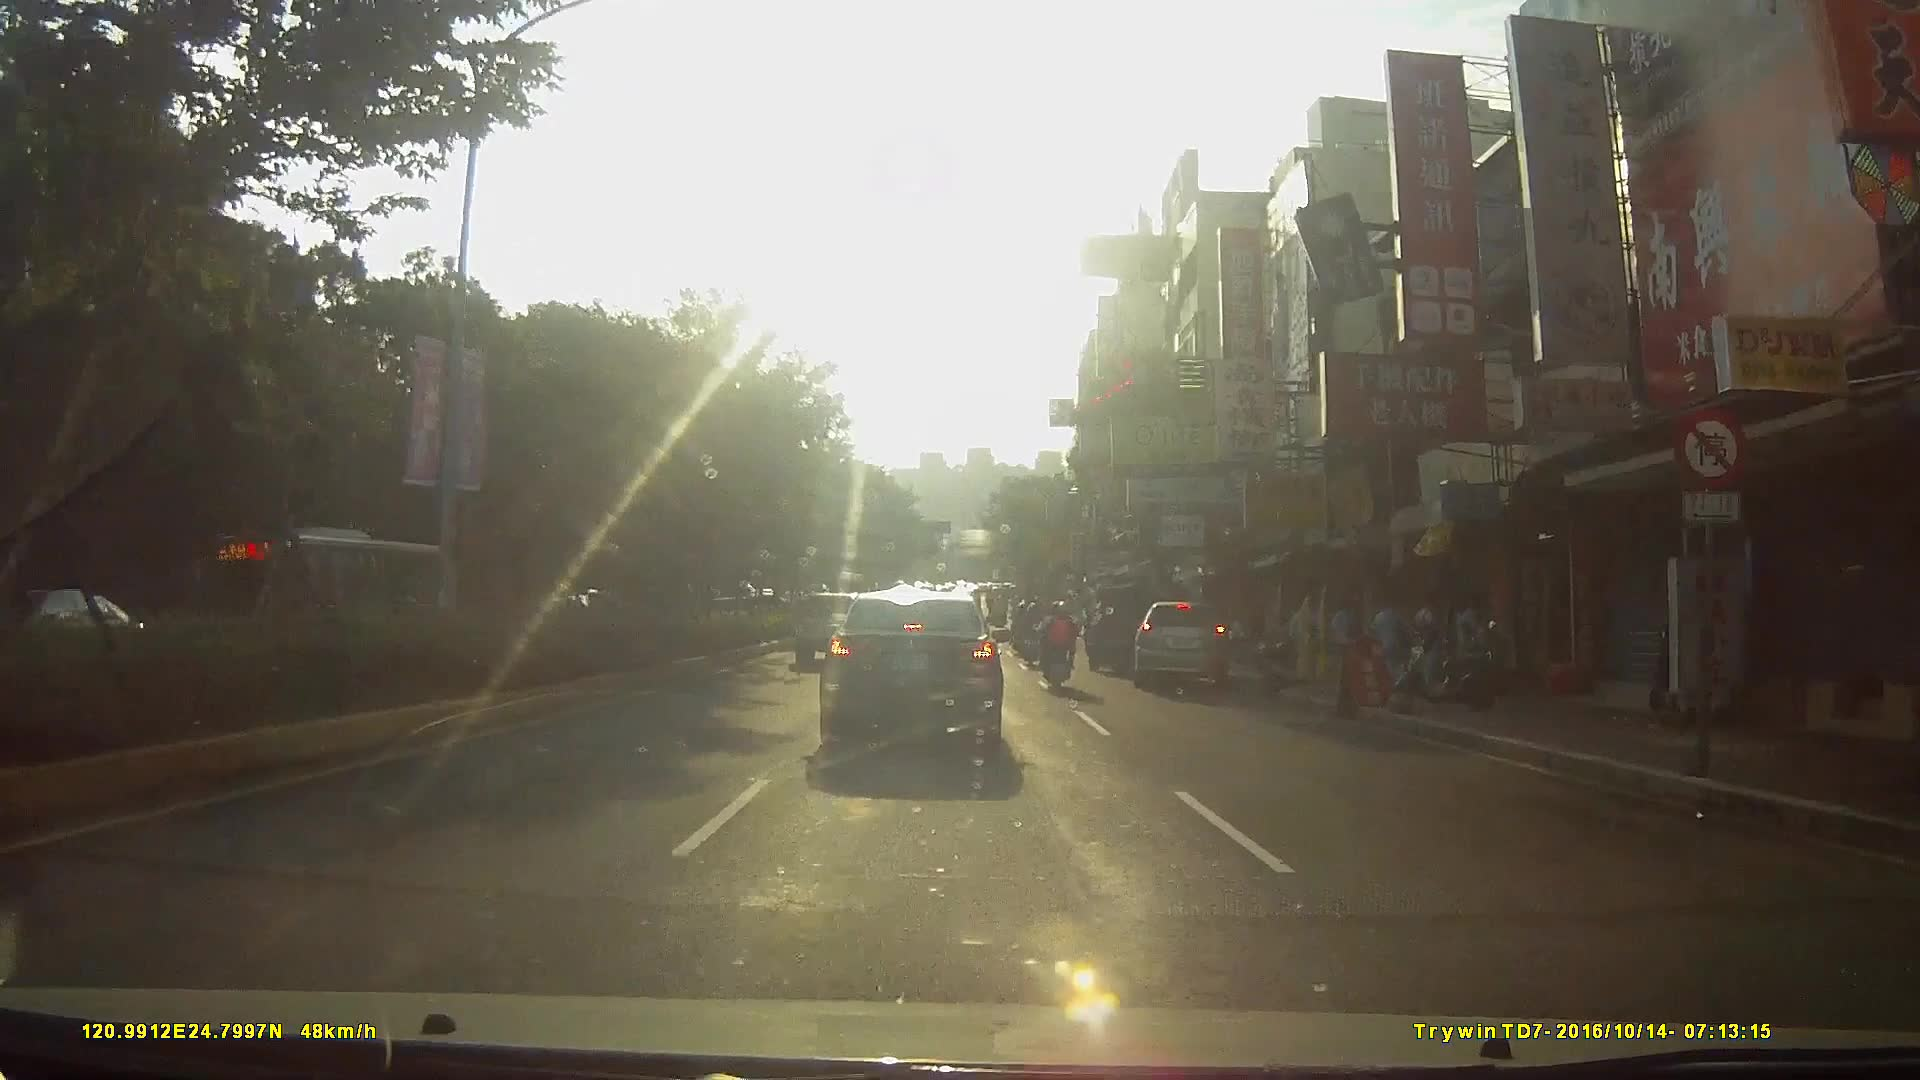pedestrian: (1373, 597, 1414, 690), (1415, 595, 1435, 667)
rider: (1040, 598, 1084, 695), (1017, 602, 1043, 669)
vehicle: (820, 589, 1030, 766), (207, 523, 455, 666), (1139, 599, 1245, 697), (1078, 577, 1174, 680)
